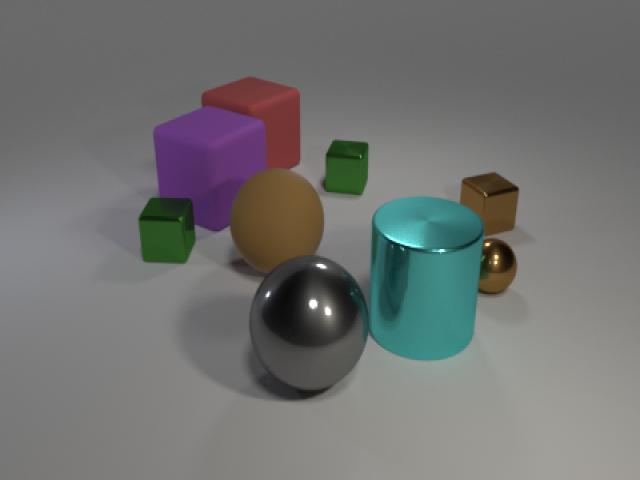cylinder: (371, 192, 486, 372)
round ball: (247, 247, 370, 400), (226, 165, 327, 274), (477, 235, 519, 301)
